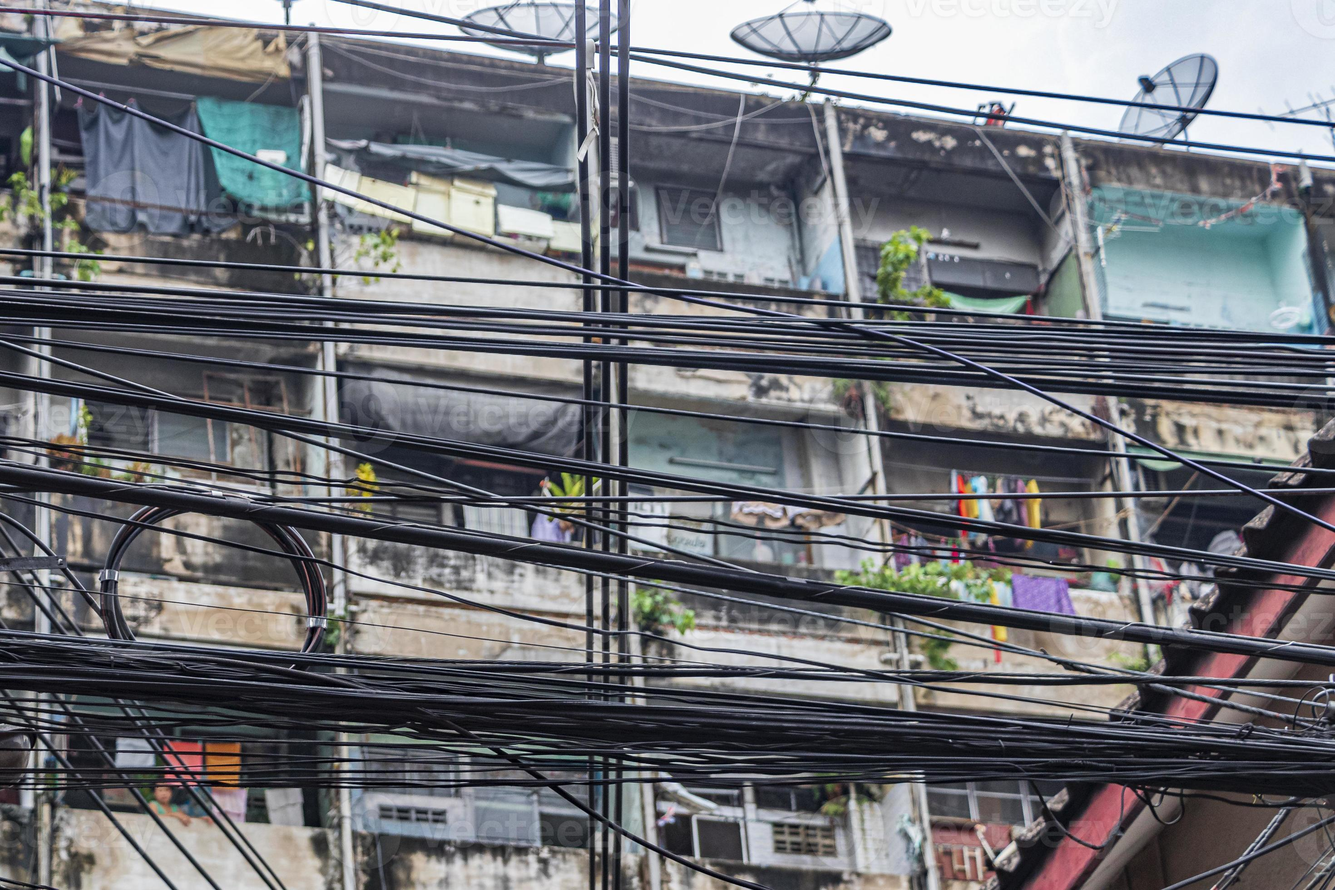wires-only: (1, 257, 1335, 817)
